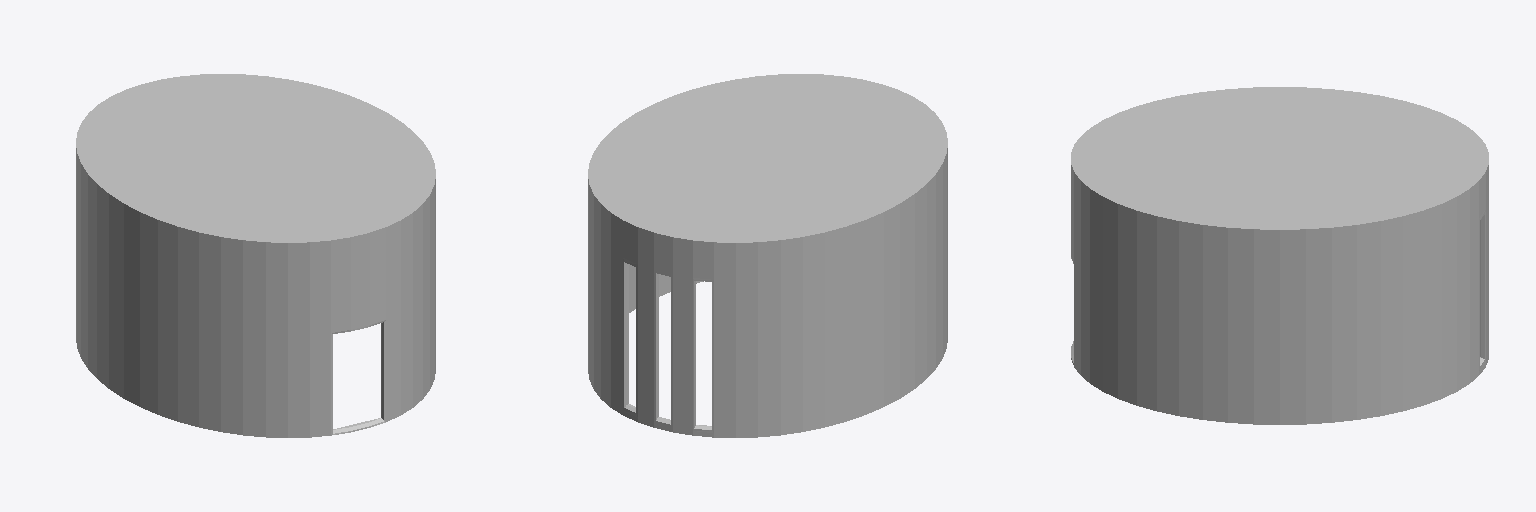
The model's file is room_walls.obj.
The picture shows the model from 3 angles: view 1: azimuth 30°, elevation 25°; view 2: azimuth 150°, elevation 25°; view 3: azimuth 270°, elevation 25°; orthographic projection.
Visible parts, largest first — view 1: pCylinder1; view 2: pCylinder1; view 3: pCylinder1.
Part boxes in pixels (bbox=[...]): pCylinder1: bbox=[76, 74, 435, 437]; pCylinder1: bbox=[588, 74, 947, 437]; pCylinder1: bbox=[1071, 87, 1488, 424].
Bounding box in the file's own units: 17.97 × 11.44 × 22.21.